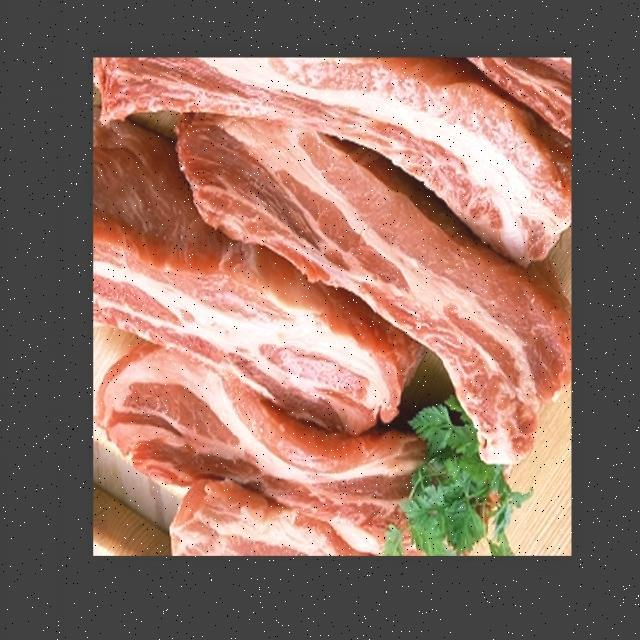pork: (172, 111, 567, 462), (94, 56, 571, 265), (92, 109, 405, 425), (99, 344, 447, 544), (168, 477, 369, 554)
